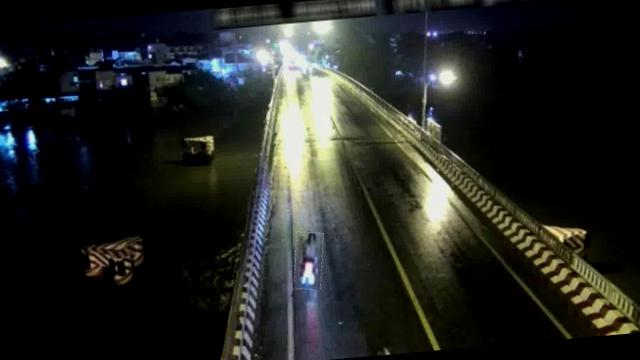Bike: (292, 230, 326, 290)
